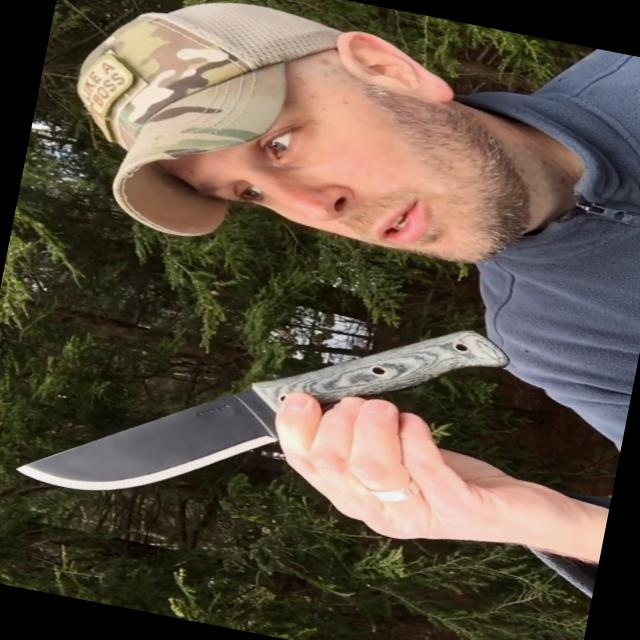knife: (0, 320, 438, 562)
